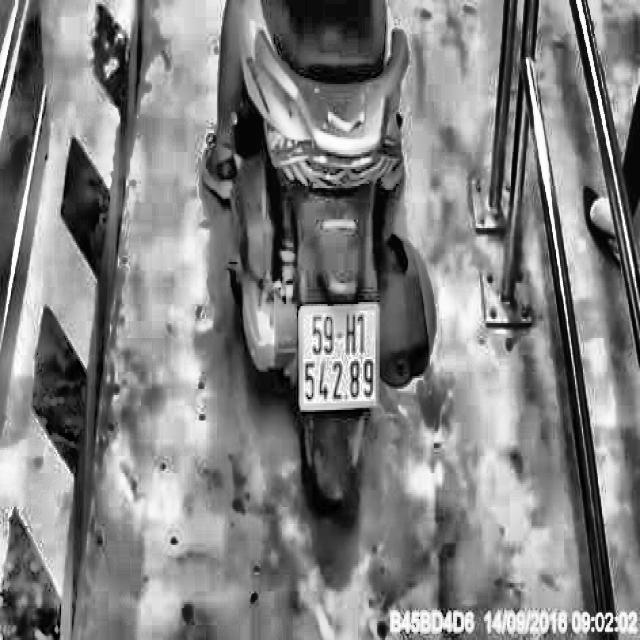plate: (294, 295, 384, 417)
